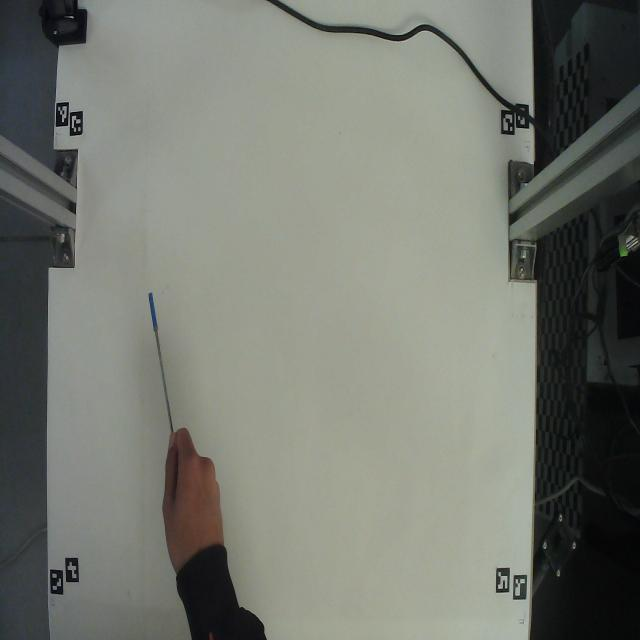NoPres: (130, 269, 175, 476)
